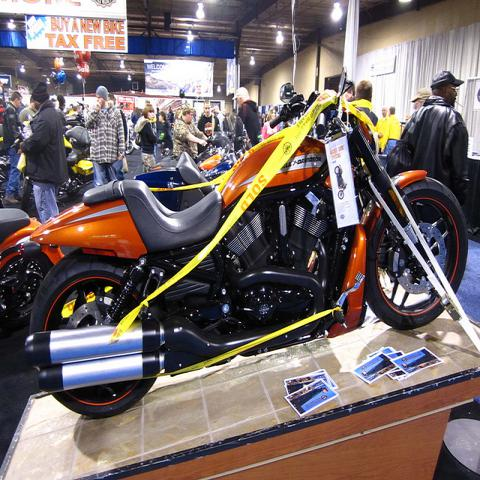motorcycle: (1, 66, 470, 412), (135, 151, 242, 207), (149, 131, 237, 170), (0, 151, 36, 216)
